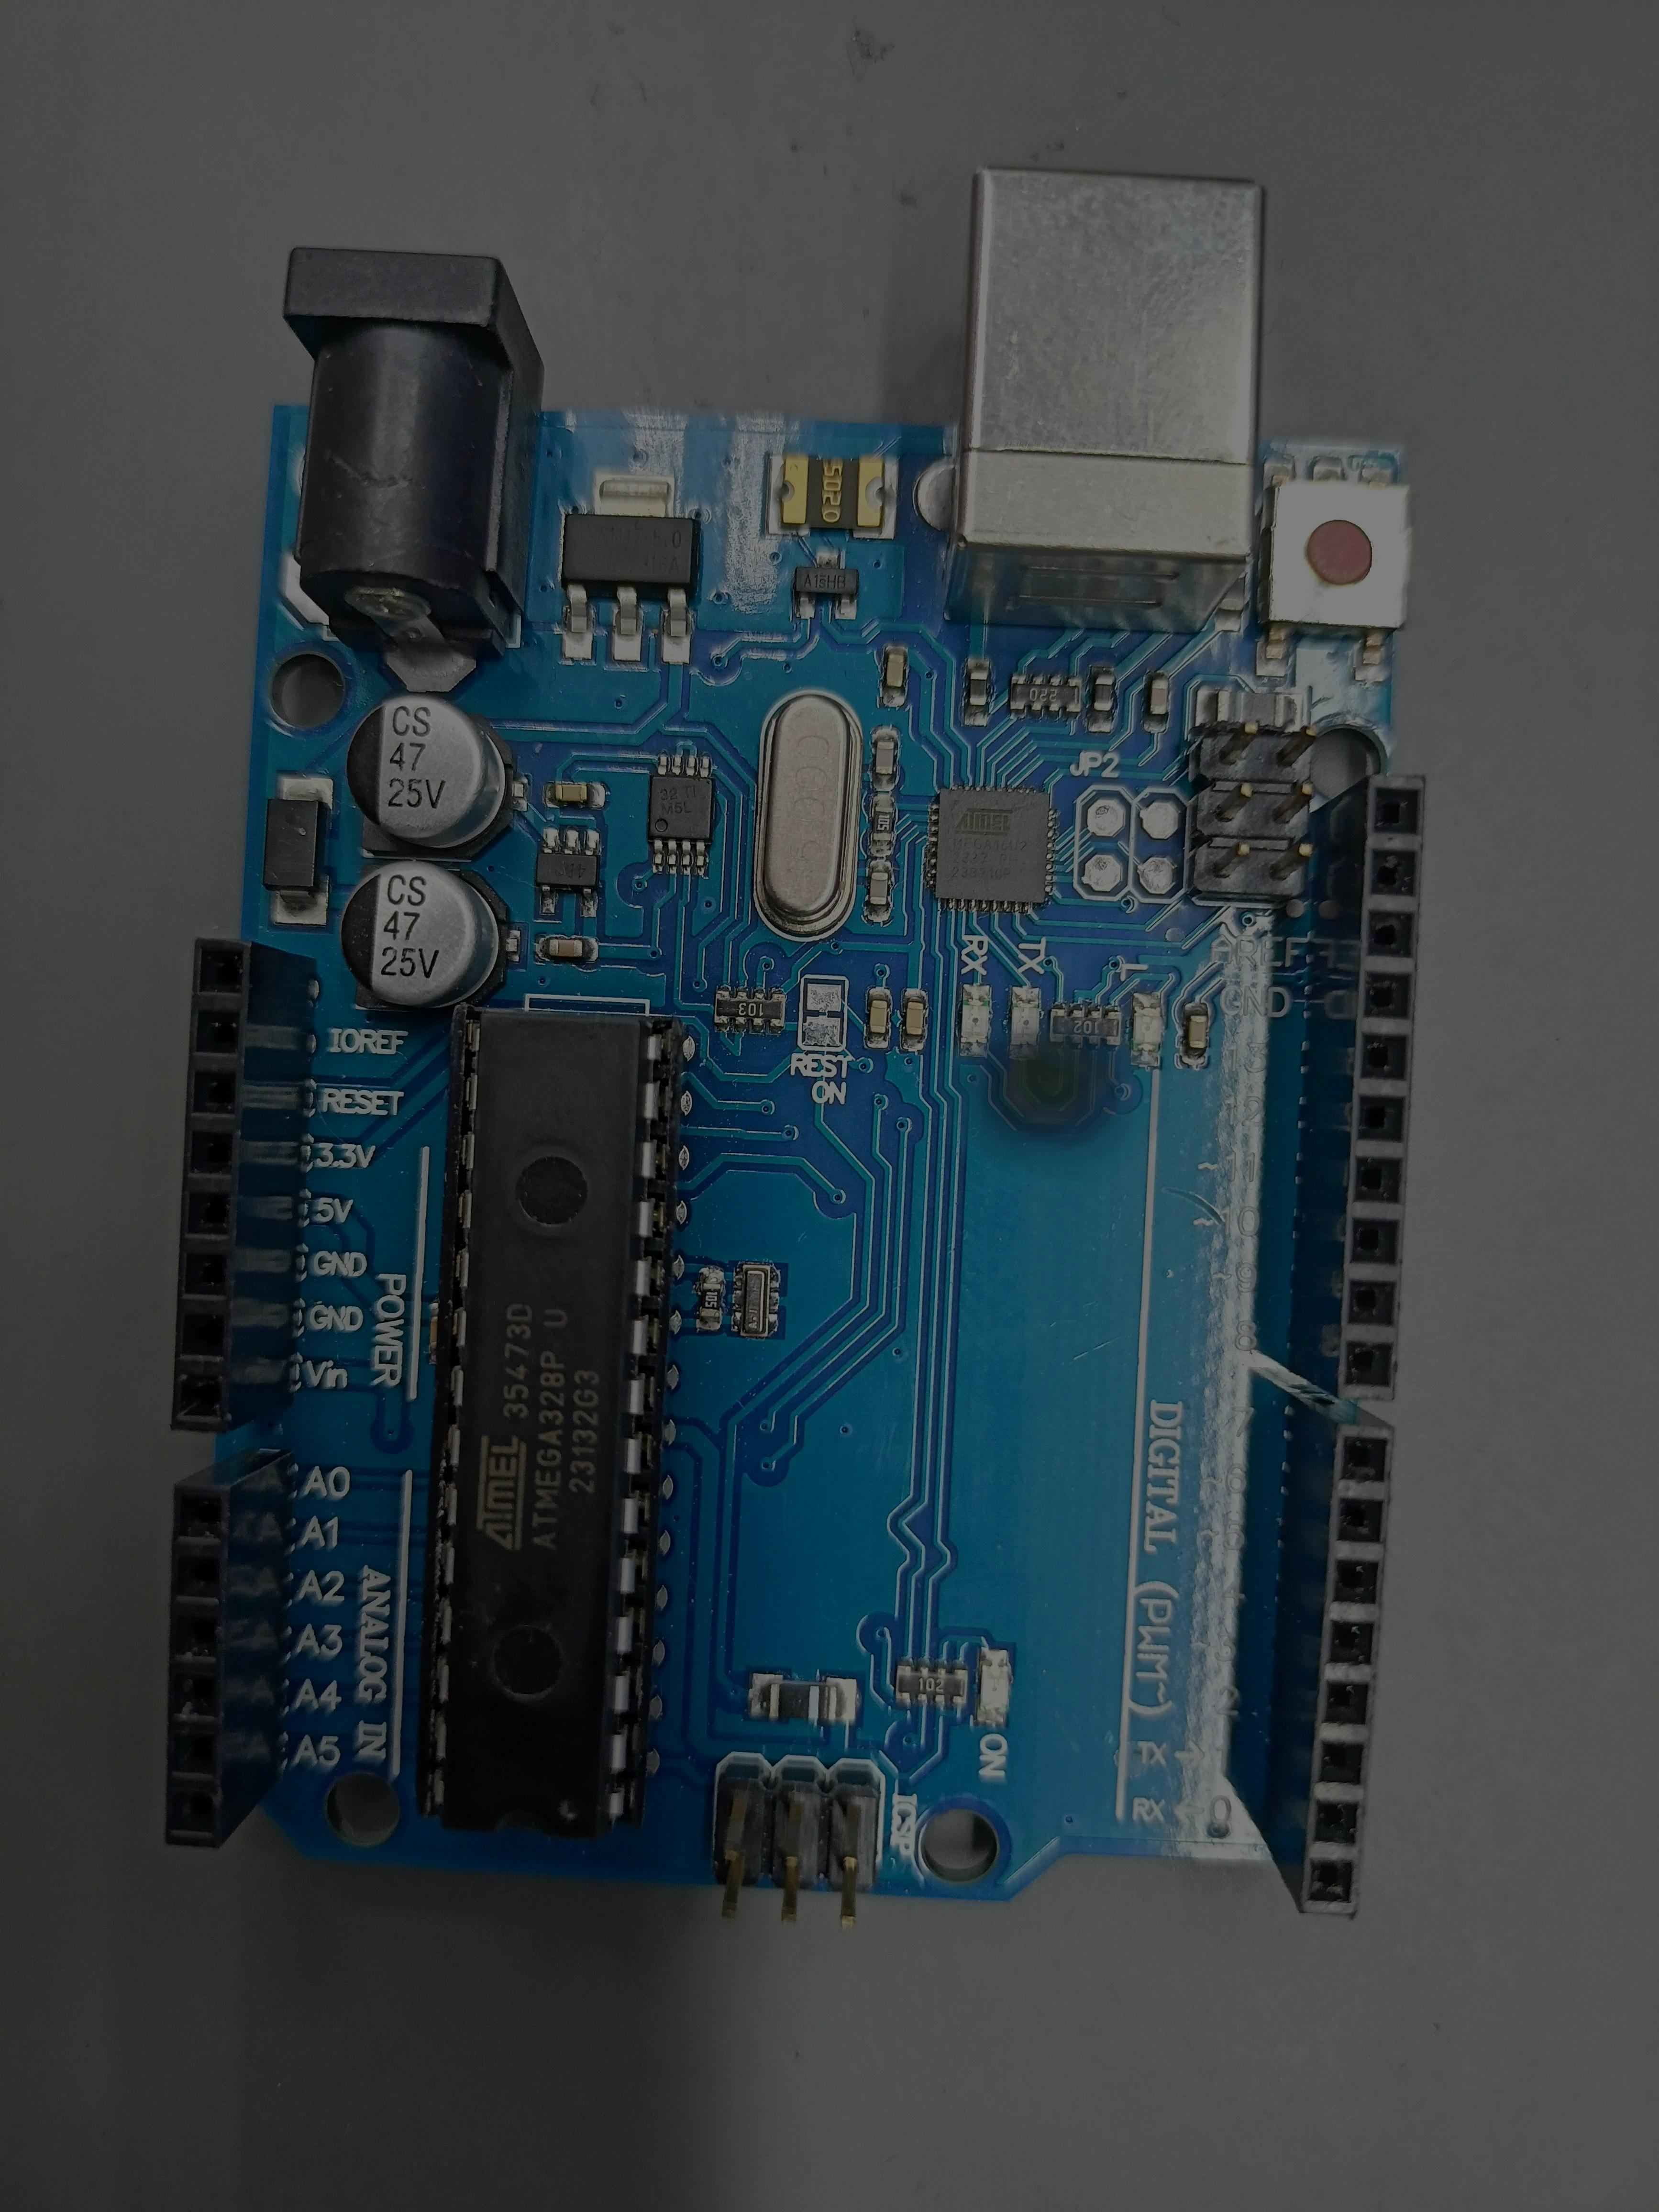ATmega328 chip: (415, 1001, 688, 1838)
Arduino board: (166, 165, 1425, 1926)
Overheat: (967, 1029, 1138, 1176)
Scratch: (1159, 1188, 1227, 1228), (1094, 1334, 1131, 1350), (1073, 1352, 1087, 1360)
USB: (945, 165, 1265, 632)
capacitor: (345, 695, 518, 860), (340, 862, 511, 1012)
pins: (1288, 773, 1425, 1400), (1260, 1369, 1394, 1919), (169, 937, 315, 1435), (164, 1446, 295, 1848)
resistor: (896, 1662, 969, 1705), (1011, 676, 1082, 716), (714, 989, 786, 1029), (1051, 1007, 1121, 1047)
